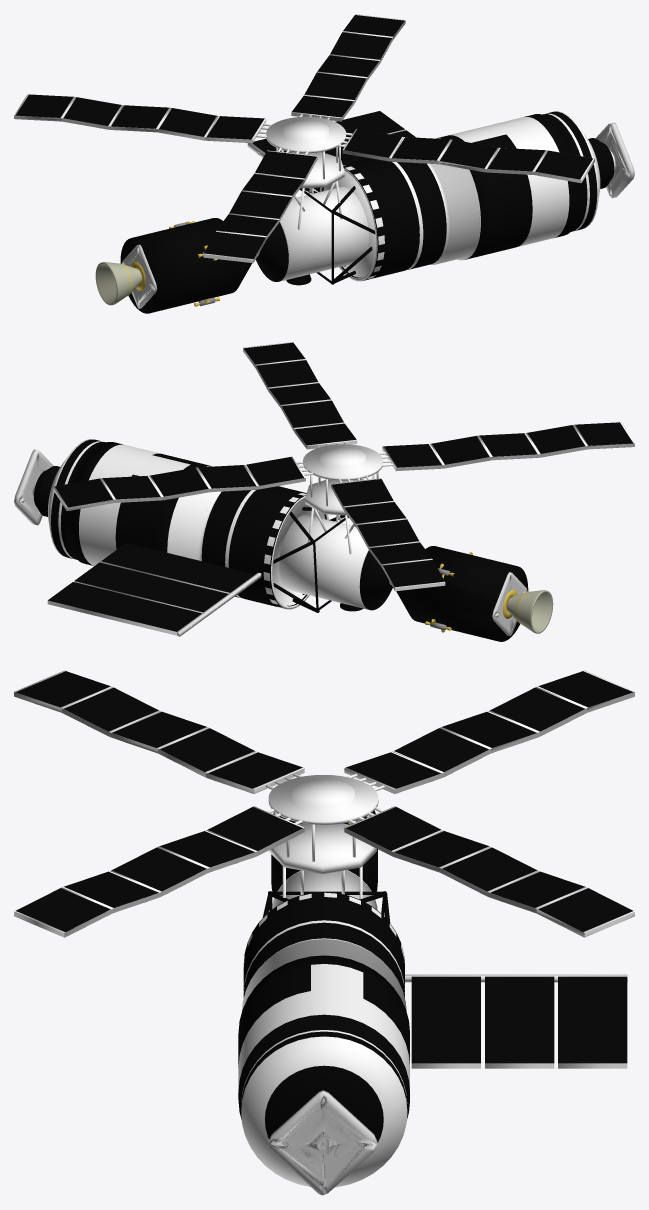
File: Skylab.glb
The picture shows the model from 3 angles, top to bottom: view 1: azimuth 30°, elevation 25°; view 2: azimuth 150°, elevation 25°; view 3: azimuth 270°, elevation 25°; orthographic projection. The views are drawn at different scales.
Parts seen in each view (by area): view 1: polySurfac; view 2: polySurfac; view 3: polySurfac.
Boxes of the visible parts, x1,y1,x2,y2 form: polySurfac: (14,14,634,313); polySurfac: (14,342,634,641); polySurfac: (14,670,634,1195).
Size of the model in its own units: 38.74 by 11.78 by 29.85.
